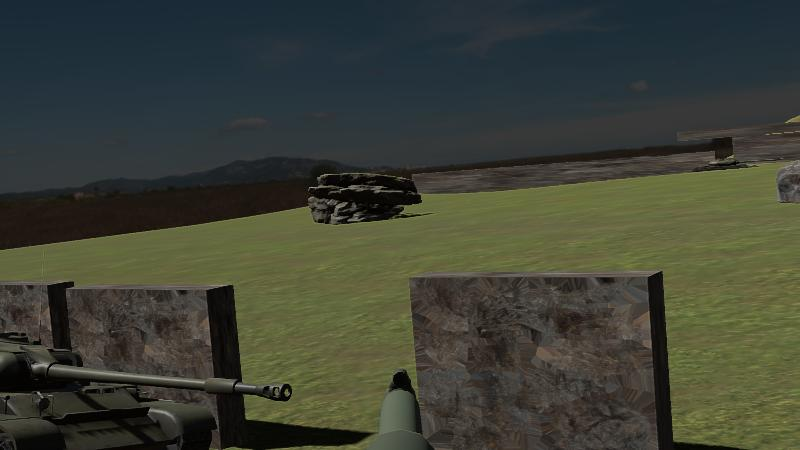Tank: (0, 323, 294, 449)
